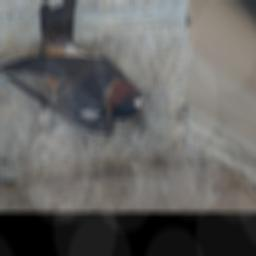Swallow: (0, 0, 147, 137)
